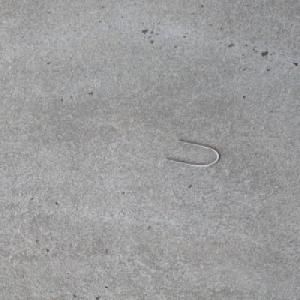ClampPart: (164, 139, 221, 167)
